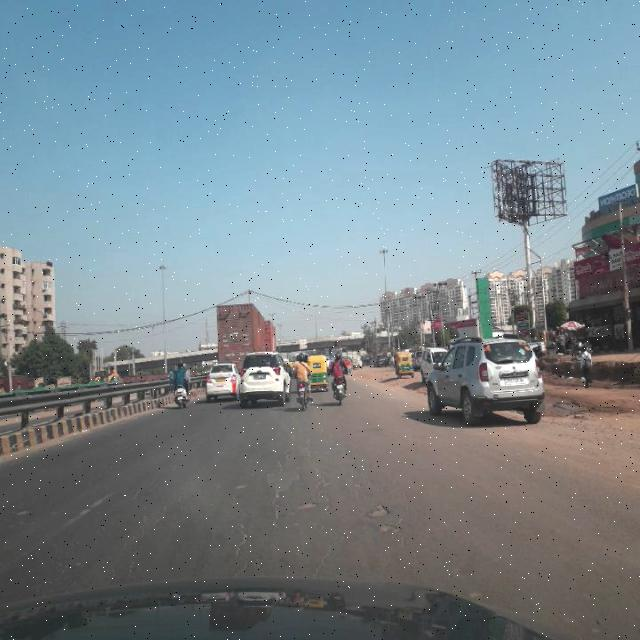D00: (122, 478, 175, 580), (226, 452, 257, 574)
D40: (362, 492, 404, 546), (268, 457, 298, 507), (286, 494, 321, 516)
D44: (13, 484, 118, 566)
